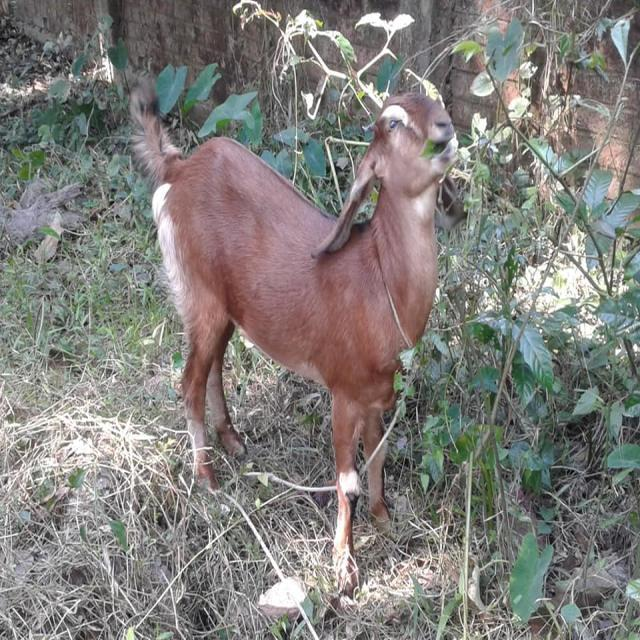Goat: (127, 77, 465, 599)
